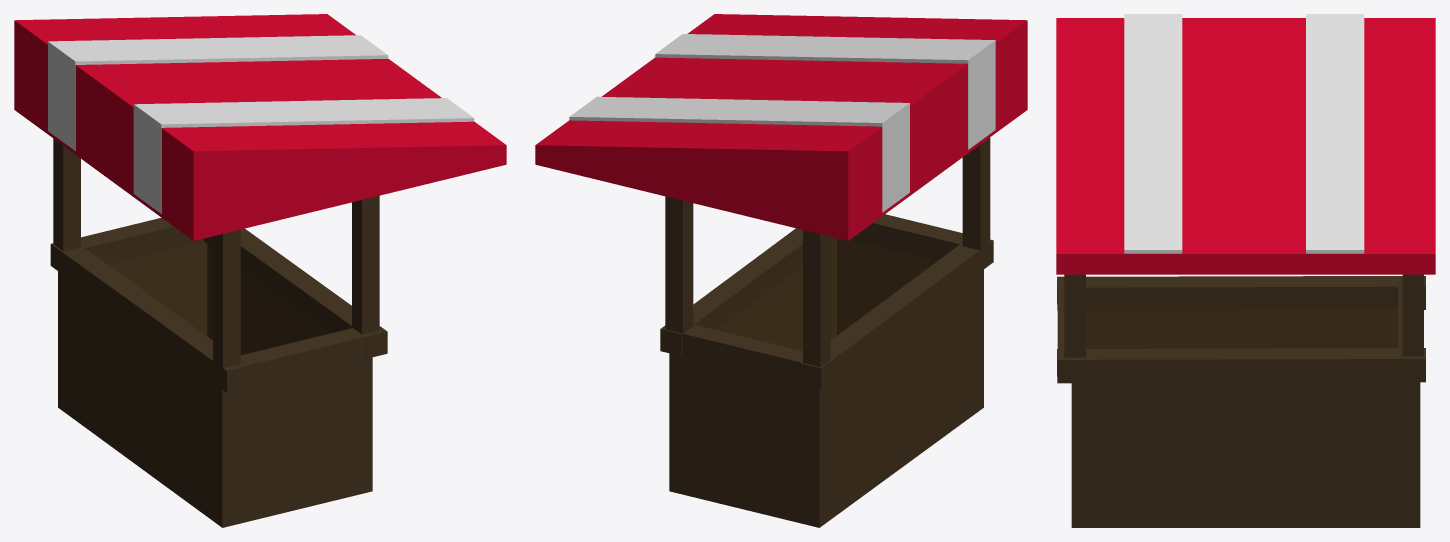
Rendered from Stall.fbx.
The picture shows the model from 3 angles, left to right: view 1: azimuth 30°, elevation 25°; view 2: azimuth 150°, elevation 25°; view 3: azimuth 270°, elevation 25°; orthographic projection. The views are drawn at different scales.
Parts seen in each view (by area): view 1: pCube17; view 2: pCube17; view 3: pCube17.
Part boxes in pixels (x1,y1,x2,y2): pCube17: (14,14,506,527); pCube17: (535,14,1027,527); pCube17: (1056,14,1435,527).
Bounding box in the file's own units: 8.54 × 10.28 × 8.46.
